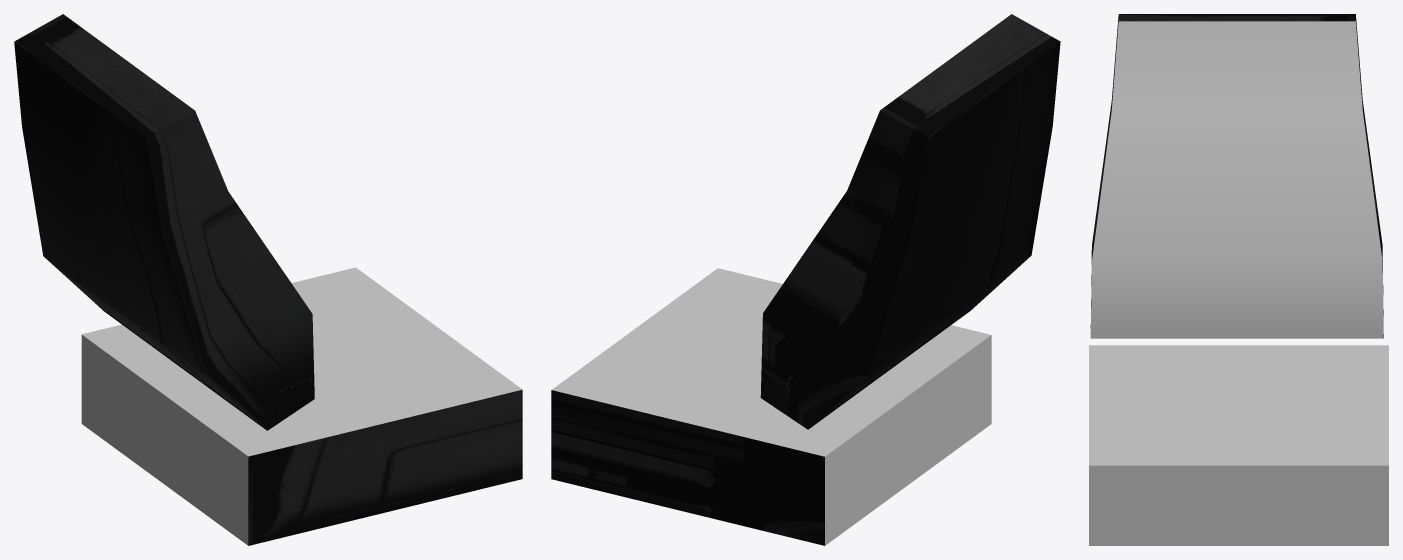
The model's file is fdxest_p6_console_chair_seat_lod1.glb.
3 views of the same model, side by side, from view 1: azimuth 30°, elevation 25°; view 2: azimuth 150°, elevation 25°; view 3: azimuth 270°, elevation 25° (orthographic). The views are drawn at different scales.
Visible parts, largest first — view 1: surf1, surf0; view 2: surf1, surf0; view 3: surf0, surf1.
Part boxes in pixels (x1,y1,x2,y2): surf1: [14, 14, 522, 545]; surf0: [81, 267, 522, 545]; surf1: [551, 14, 1060, 545]; surf0: [552, 268, 991, 545]; surf0: [1089, 21, 1388, 545]; surf1: [1090, 14, 1383, 336].
Size of the model in its own units: 27.12 by 31.11 by 21.78.
